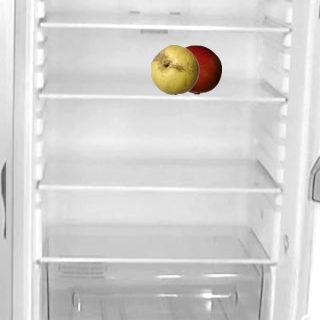Apple Braeburn: (171, 44, 221, 94)
Apple Golden 1: (149, 44, 199, 94)
